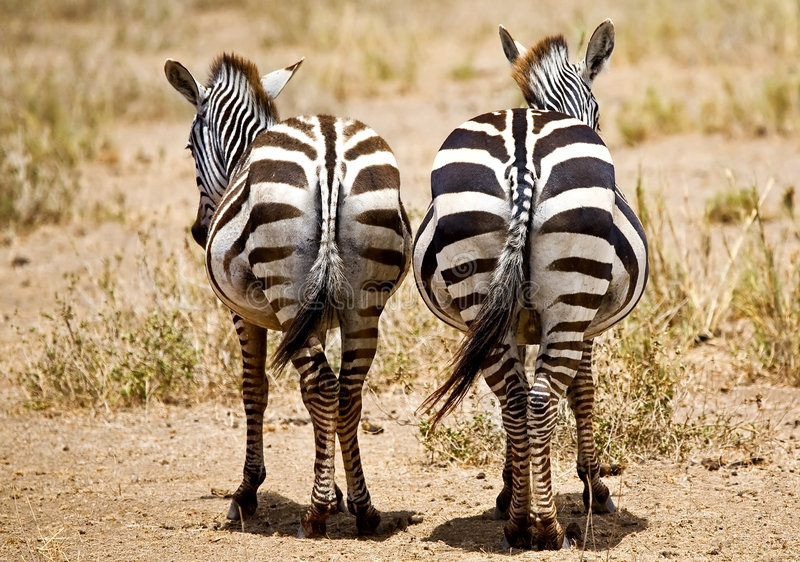zebra: (410, 1, 644, 552), (169, 45, 411, 553)
